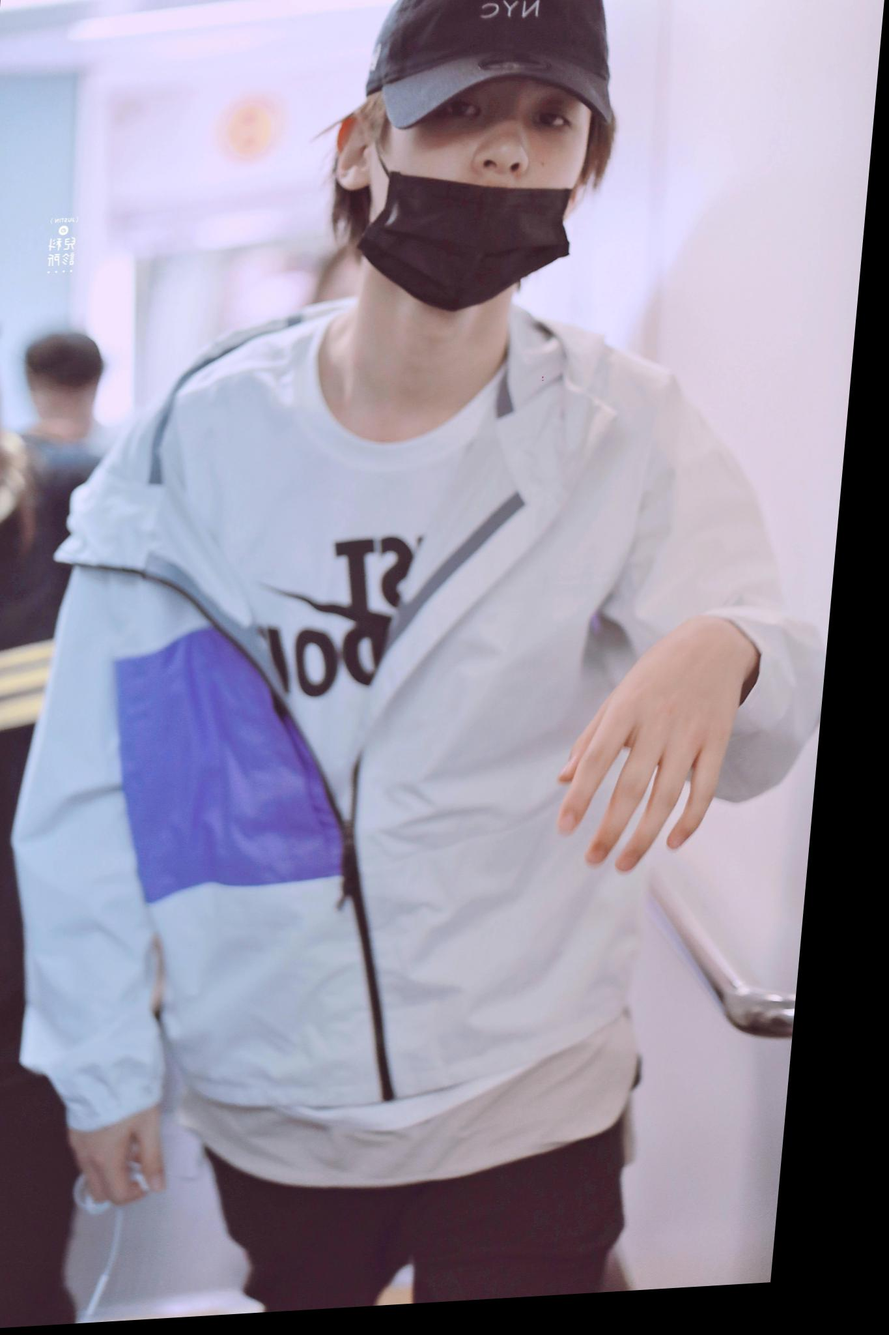WRONG: (378, 54, 594, 317)
